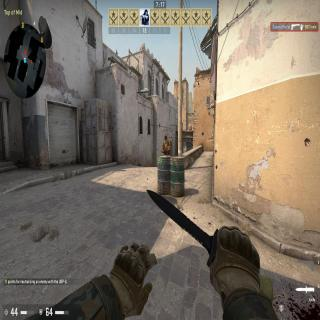T-Body: (162, 135, 170, 156)
T-Head: (164, 136, 168, 144)
